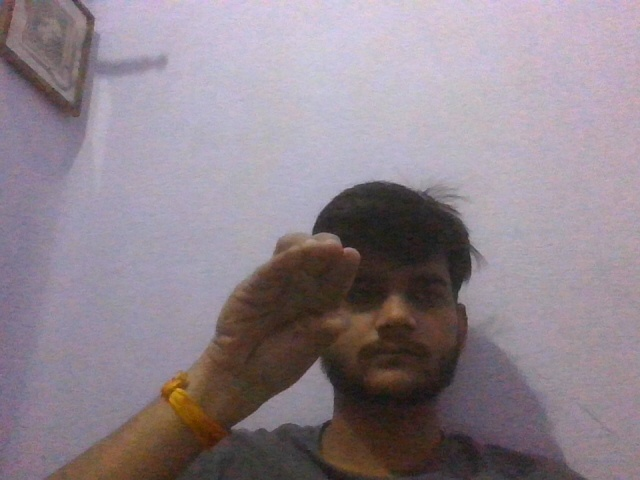sorry: (209, 230, 399, 406)
